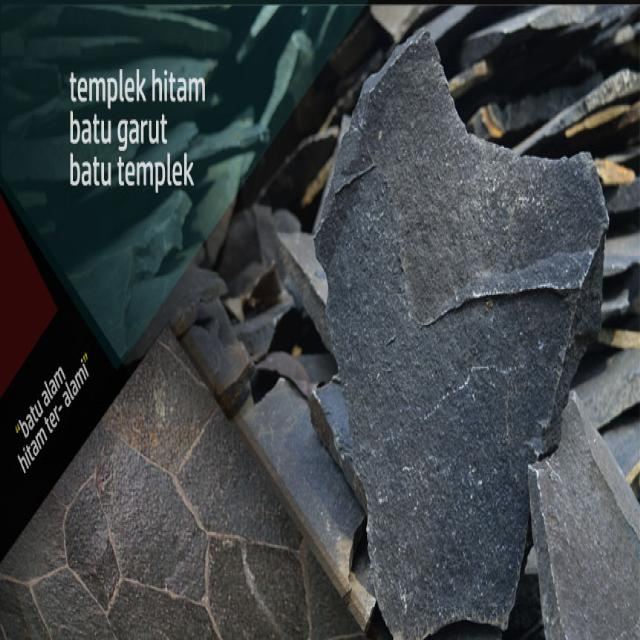Pecahan Agregat: (315, 1, 607, 634)
